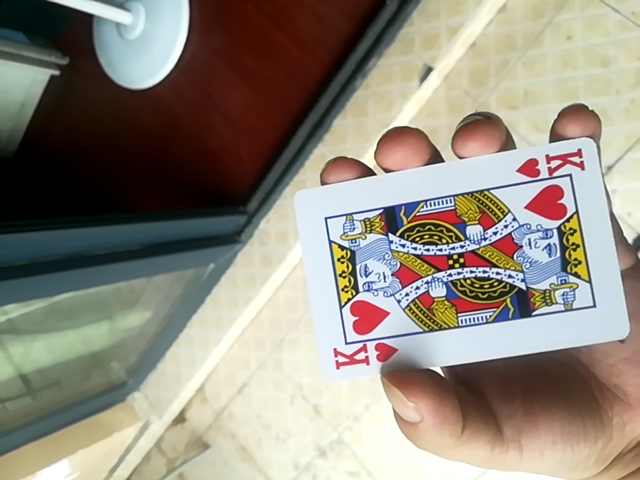hx k: (292, 137, 626, 385)
